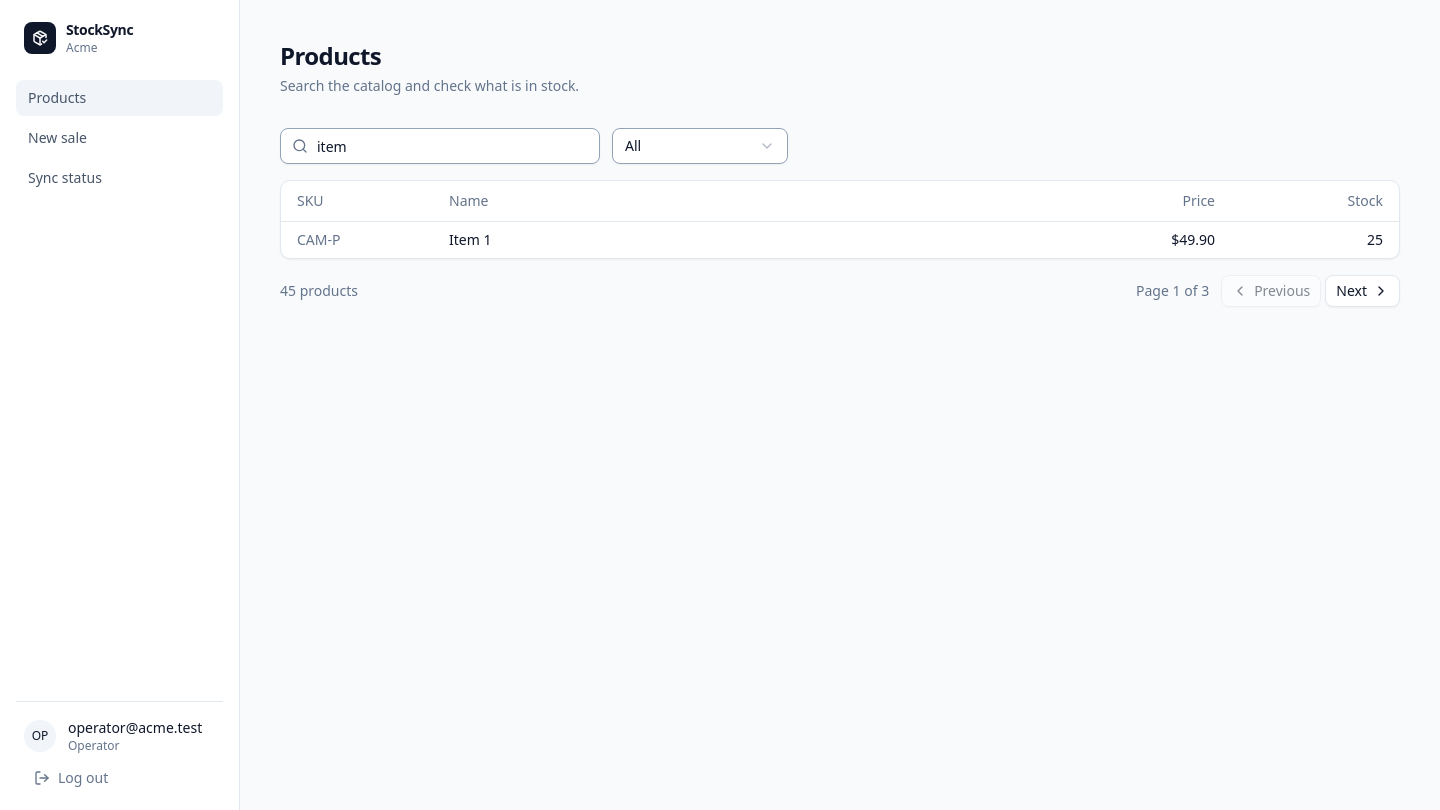
Scenario: products pagination › moves to the next and previous page through the URL
Expected: the text "Item 1" is shown, [441,221,1095,258]
Click the button "Next" at [1363, 290], box [1325,274,1400,306]
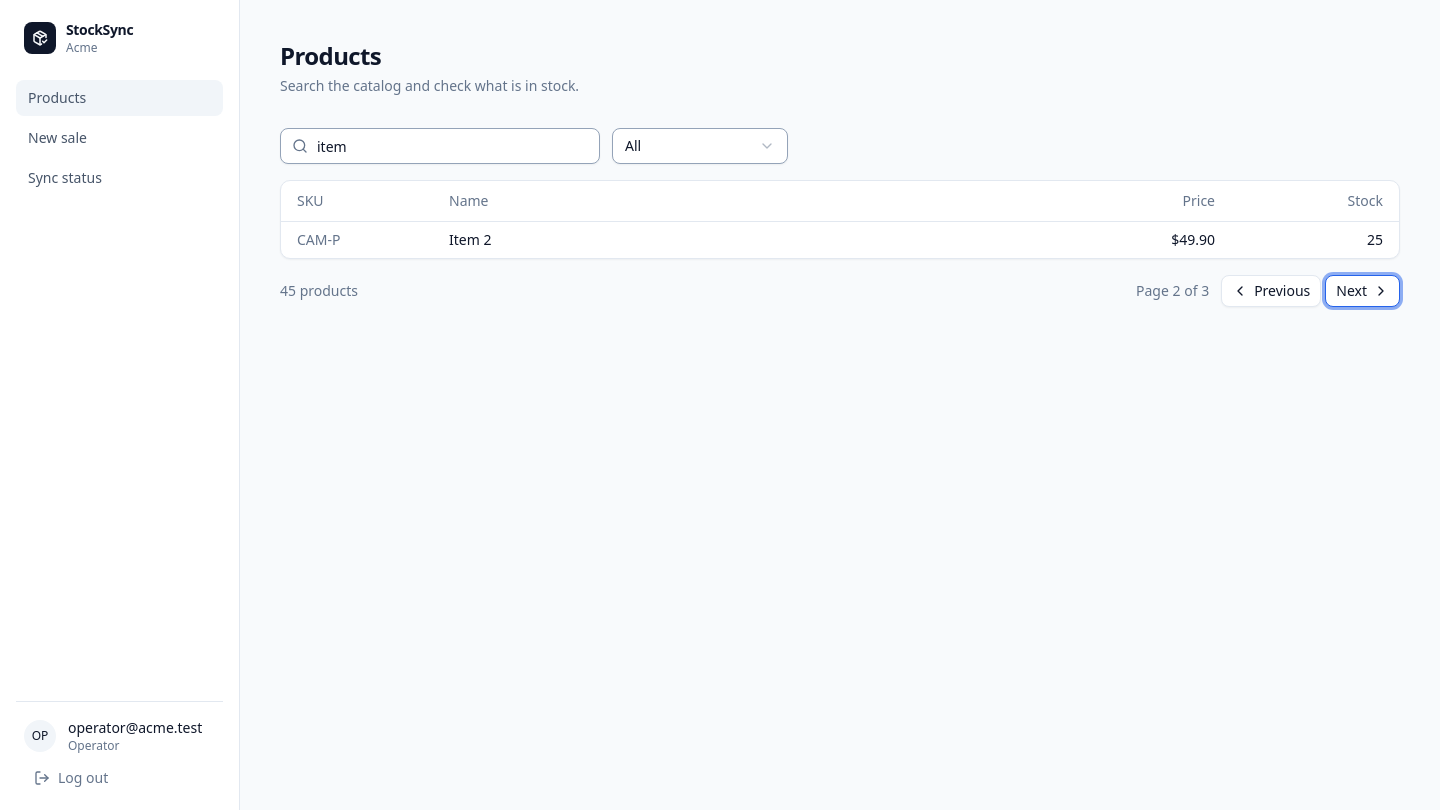
Expected: the text "Item 2" is shown, [441,221,1095,258]
Click the button "Previous" at [1271, 290], box [1221,274,1321,306]
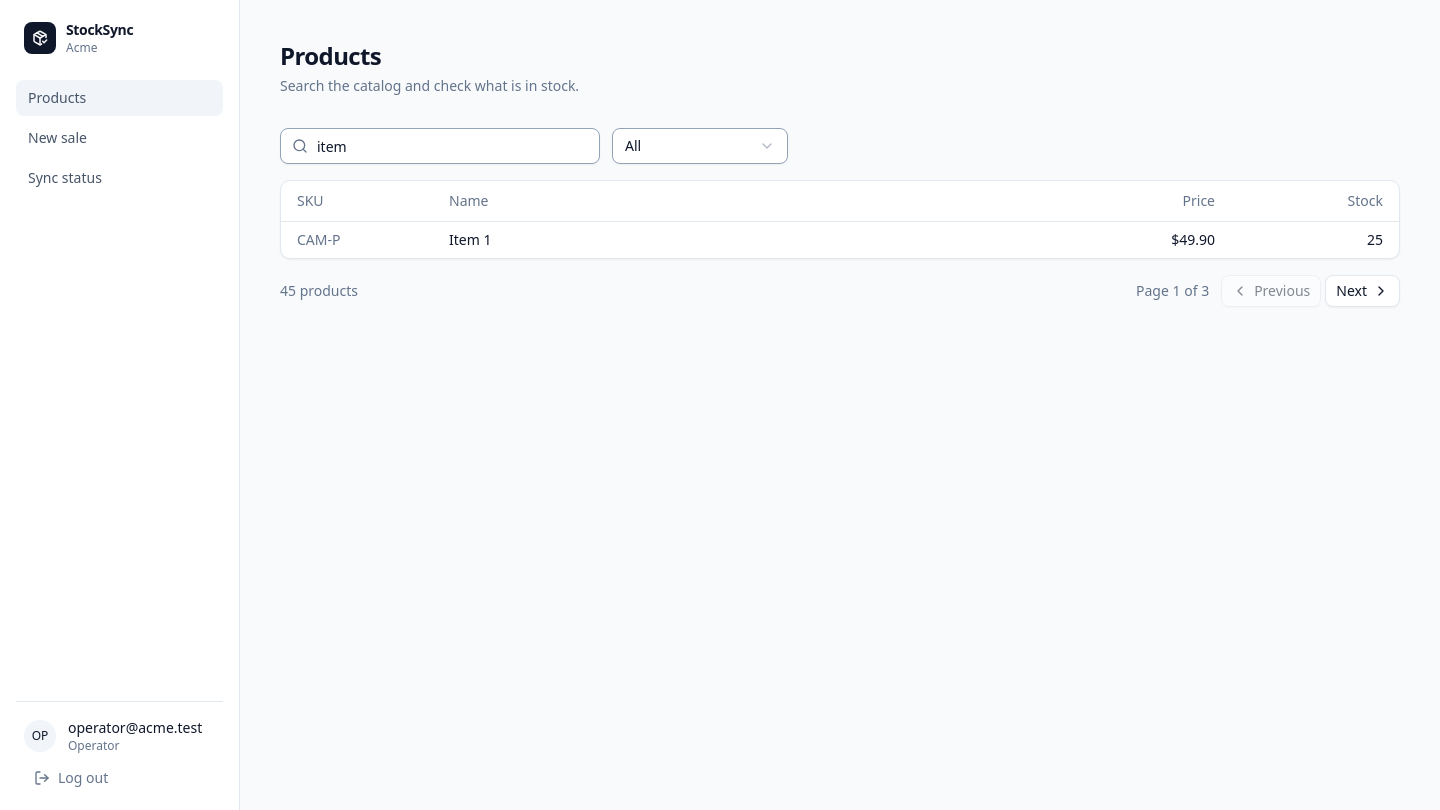
Expected: the text "Item 1" is shown, [441,221,1095,258]
